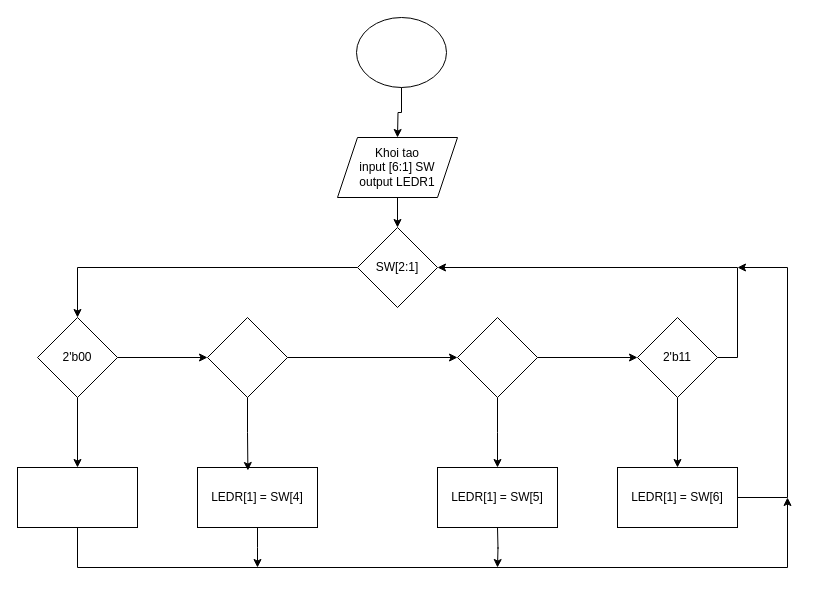
Some shapes in this 813 by 593 pixel diagram are drawn without their labels. Each missing label, with the centre of its shape:
"2'b01" belongs at point (247, 357).
"2'b10" belongs at point (497, 357).
"LEDR[1] = SW[3]" belongs at point (77, 497).
"start" belongs at point (401, 52).
